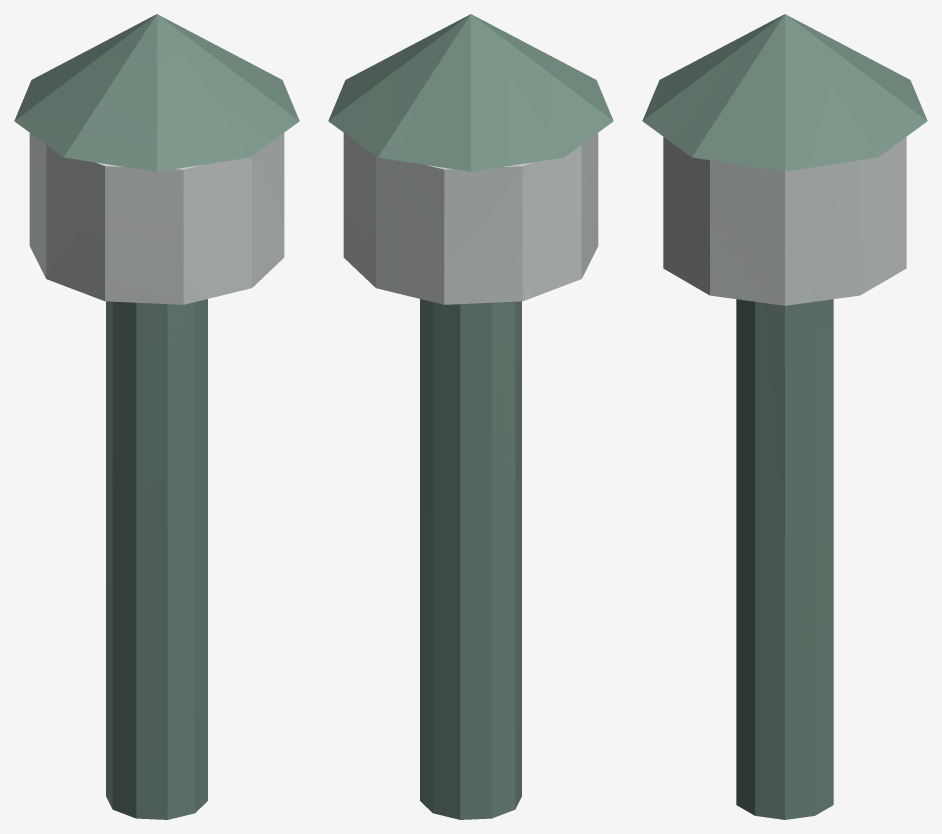
The model's file is lighthouse-05.glb.
3 renders of one model, left to right at view 1: azimuth 30°, elevation 25°; view 2: azimuth 150°, elevation 25°; view 3: azimuth 270°, elevation 25°, orthographic.
Parts seen in each view (by area): view 1: world; view 2: world; view 3: world.
Part boxes in pixels (x1,y1,x2,y2): world: (14, 14, 299, 819); world: (328, 14, 613, 819); world: (642, 14, 927, 819).
Size of the model in its own units: 0.6595 by 2.03 by 0.6697.
